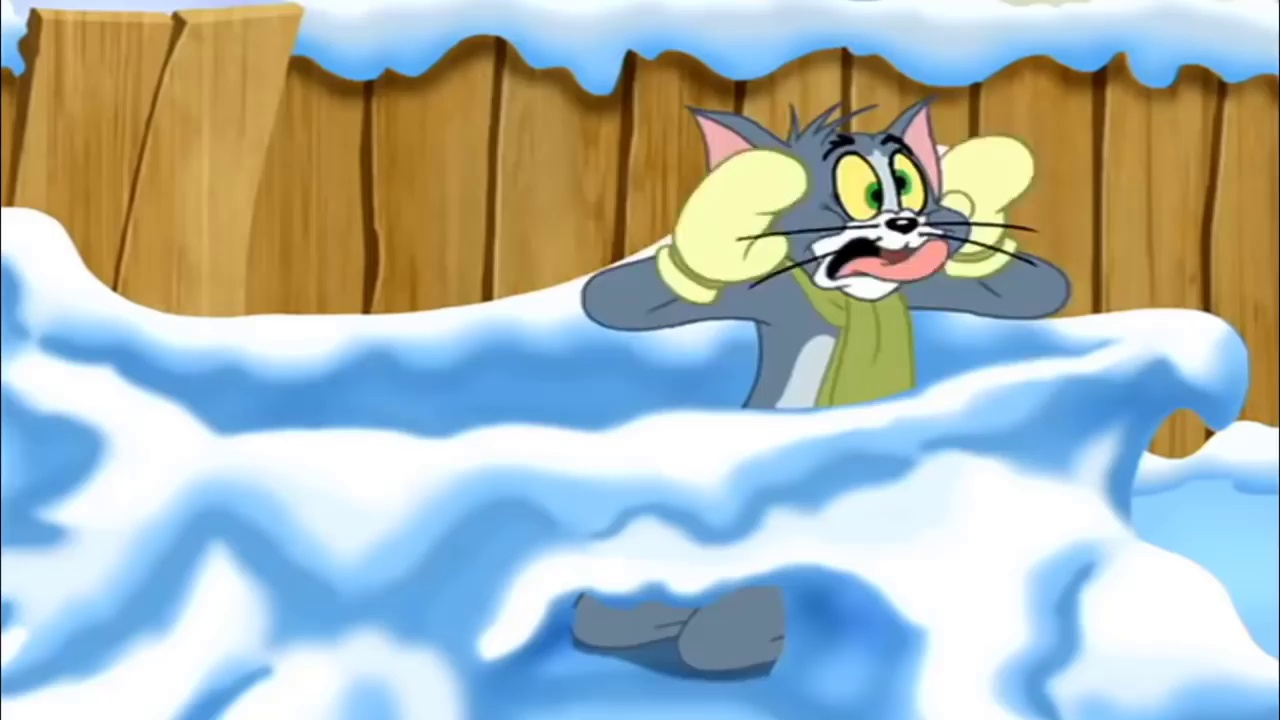face: (807, 134, 969, 302)
